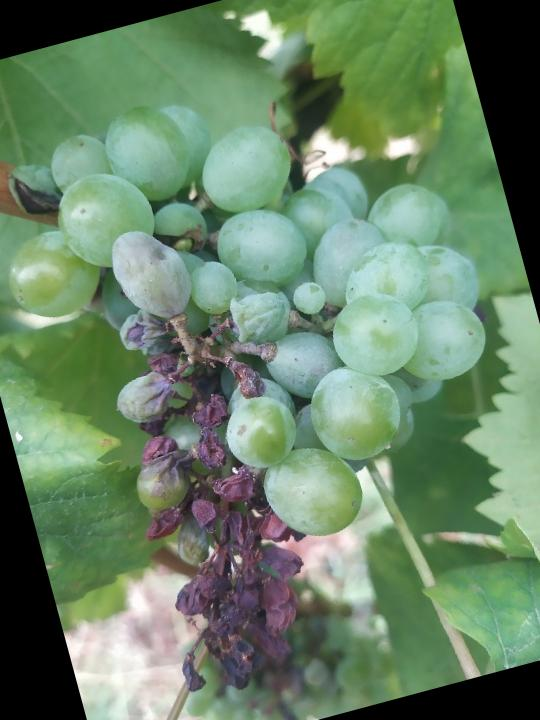grape: (0, 25, 540, 720)
